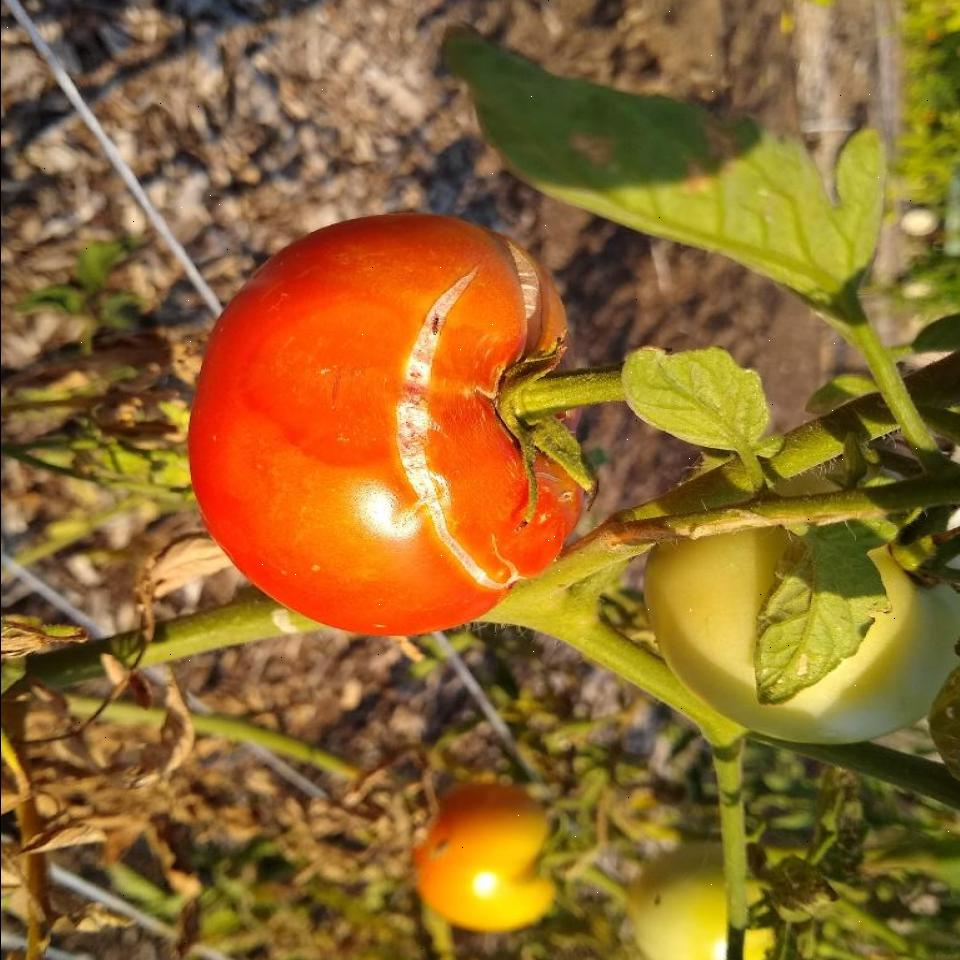Cracking: (381, 253, 523, 620)
